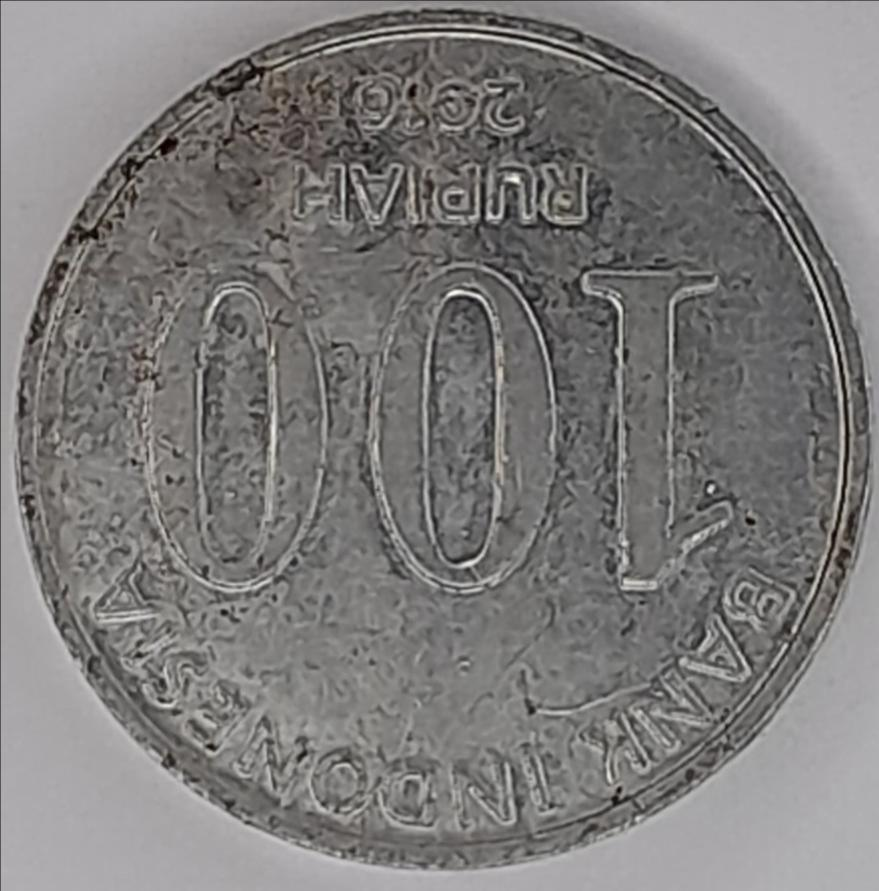coin_100_e2016: (9, 1, 877, 873)
